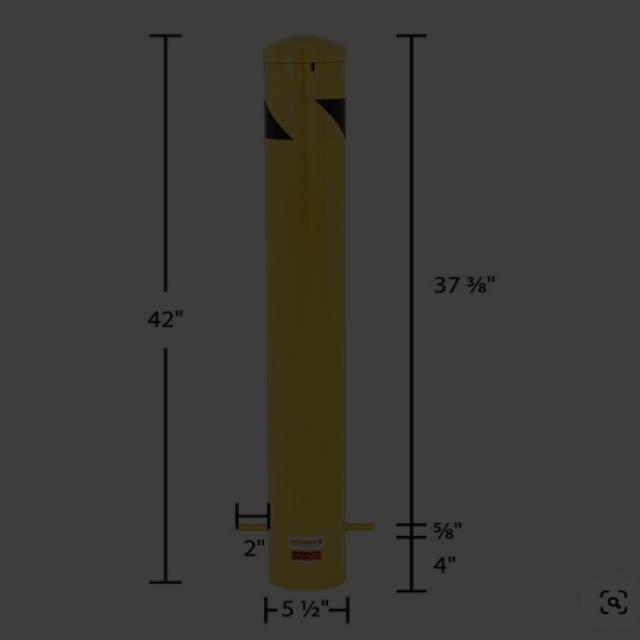Bollard: (254, 31, 357, 588)
